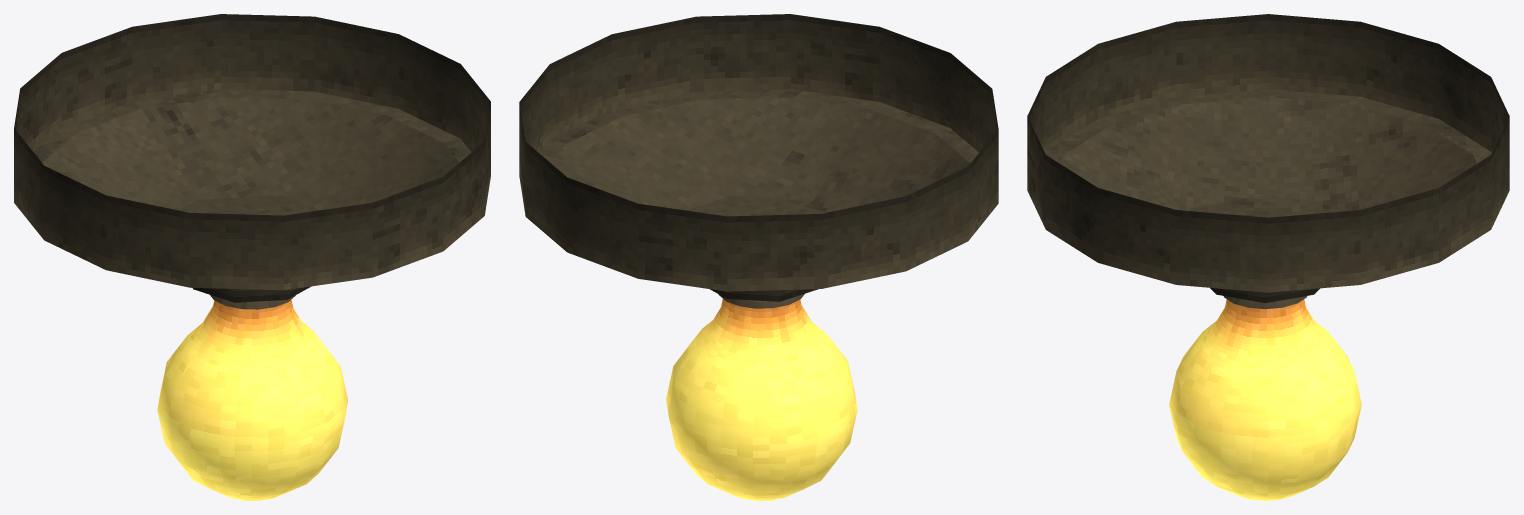
The model's file is ceiling_lamp_mp_1_1_on.glb.
3 views of the same model, side by side, from view 1: azimuth 30°, elevation 25°; view 2: azimuth 150°, elevation 25°; view 3: azimuth 270°, elevation 25° (orthographic).
Visible parts, largest first — view 1: ceiling_lamp_mp_1_1_on; view 2: ceiling_lamp_mp_1_1_on; view 3: ceiling_lamp_mp_1_1_on.
Boxes of the visible parts, <box> form: ceiling_lamp_mp_1_1_on: <box>14,14,490,500</box>; ceiling_lamp_mp_1_1_on: <box>519,14,998,500</box>; ceiling_lamp_mp_1_1_on: <box>1027,14,1509,500</box>.
Size of the model in its own units: 0.215 by 0.1855 by 0.215.
2 materials, 2 textured.
